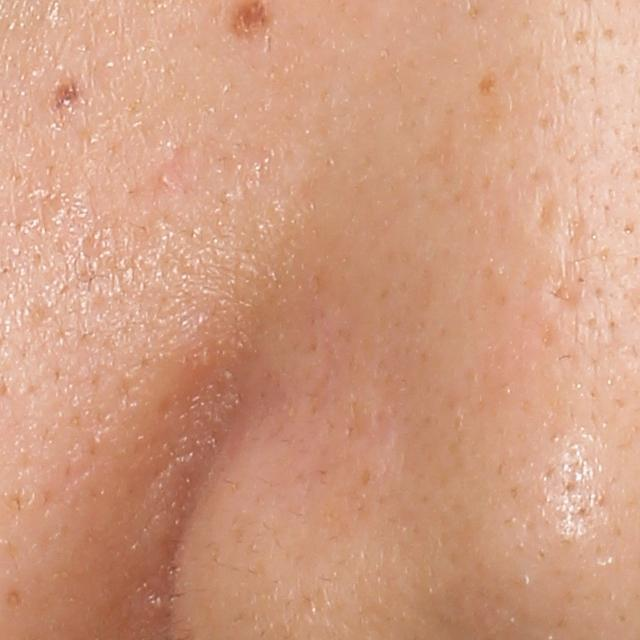atrophic_scar: (552, 275, 583, 316), (539, 193, 562, 232), (567, 216, 588, 257)
melasma: (478, 70, 498, 96)
nevus: (42, 68, 95, 121)
